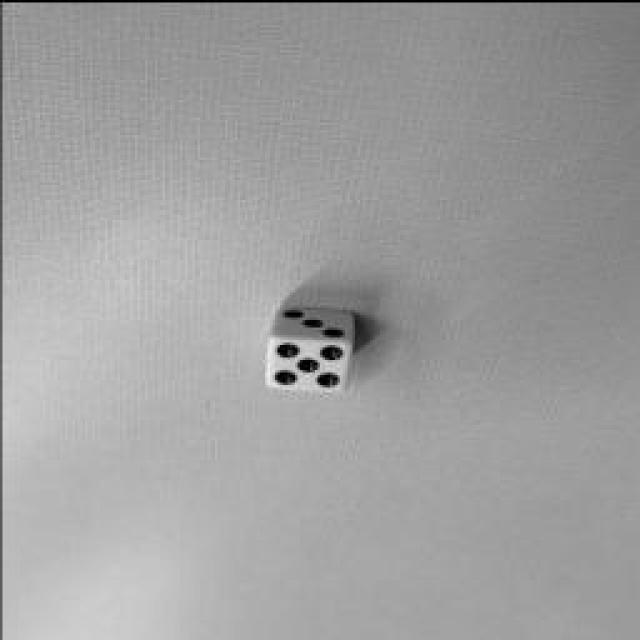dice_5: (265, 338, 350, 390)
